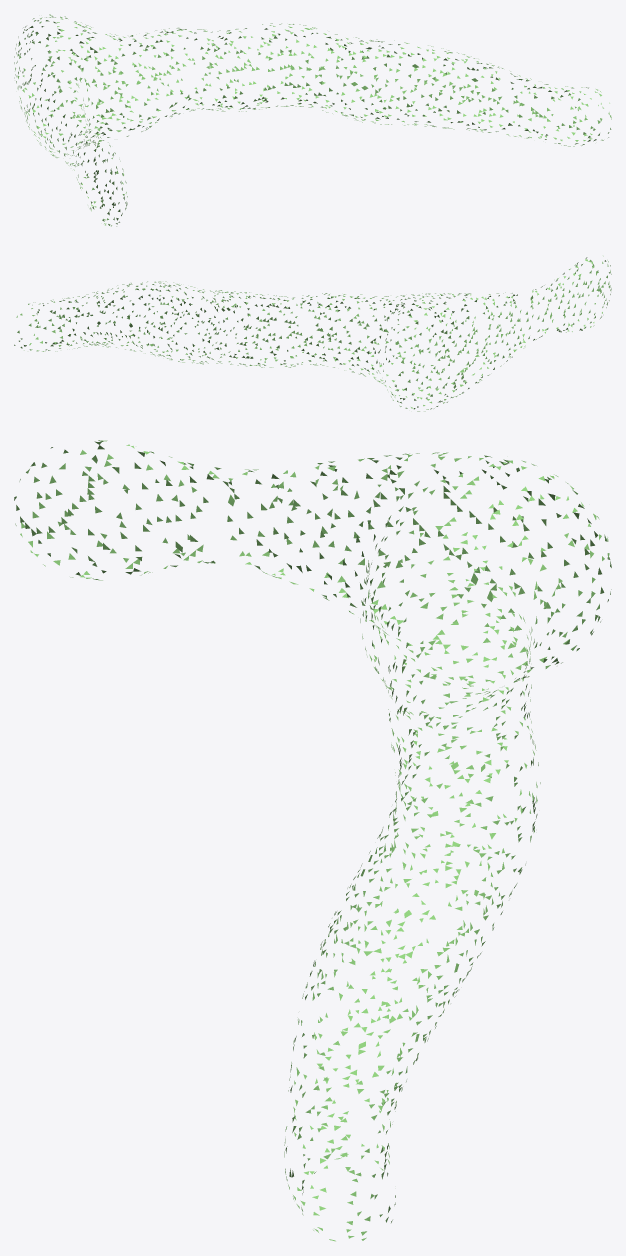
Rendered from morph_015.glb.
The picture shows the model from 3 angles, top to bottom: view 1: azimuth 30°, elevation 25°; view 2: azimuth 150°, elevation 25°; view 3: azimuth 270°, elevation 25°; orthographic projection. The views are drawn at different scales.
Size of the model in its own units: 109 by 37.73 by 56.52.
